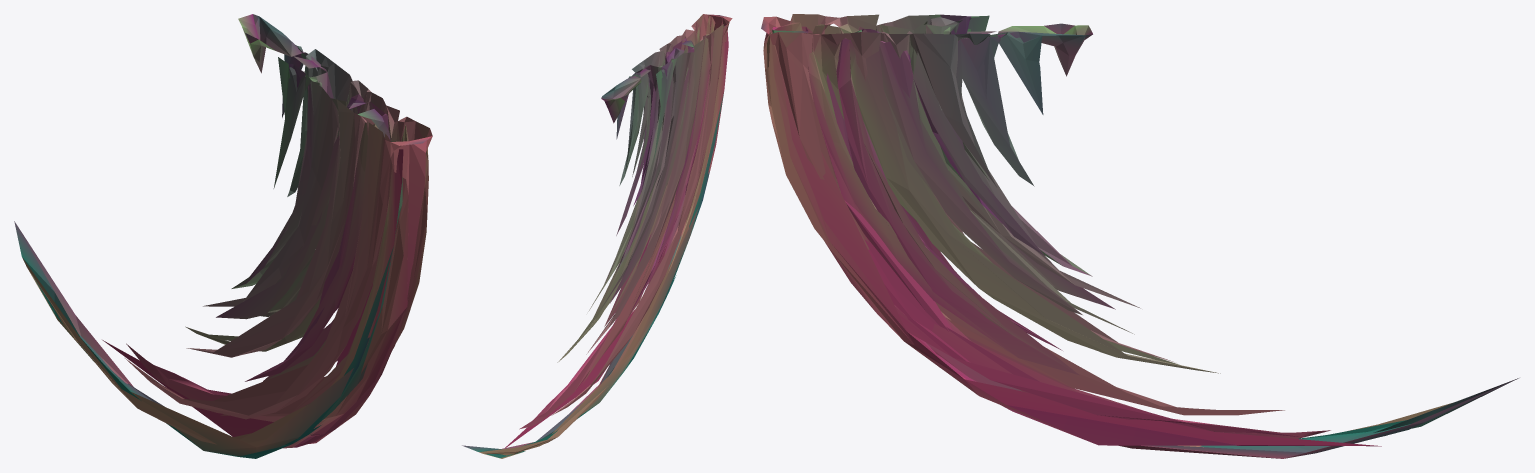
File: Eff_Billy_Attack_EXQTE_plan_005.fbx
The picture shows the model from 3 angles, left to right: view 1: azimuth 30°, elevation 25°; view 2: azimuth 150°, elevation 25°; view 3: azimuth 270°, elevation 25°; orthographic projection. The views are drawn at different scales.
Parts seen in each view (by area): view 1: Billy_Weapon009; view 2: Billy_Weapon009; view 3: Billy_Weapon009.
Boxes of the visible parts, left/top/right/bottom form: Billy_Weapon009: left=14, top=14, right=432, bottom=458; Billy_Weapon009: left=462, top=14, right=732, bottom=458; Billy_Weapon009: left=761, top=14, right=1518, bottom=458.
Bounding box in the file's own units: 0.0376 × 0.4131 × 0.6542.
